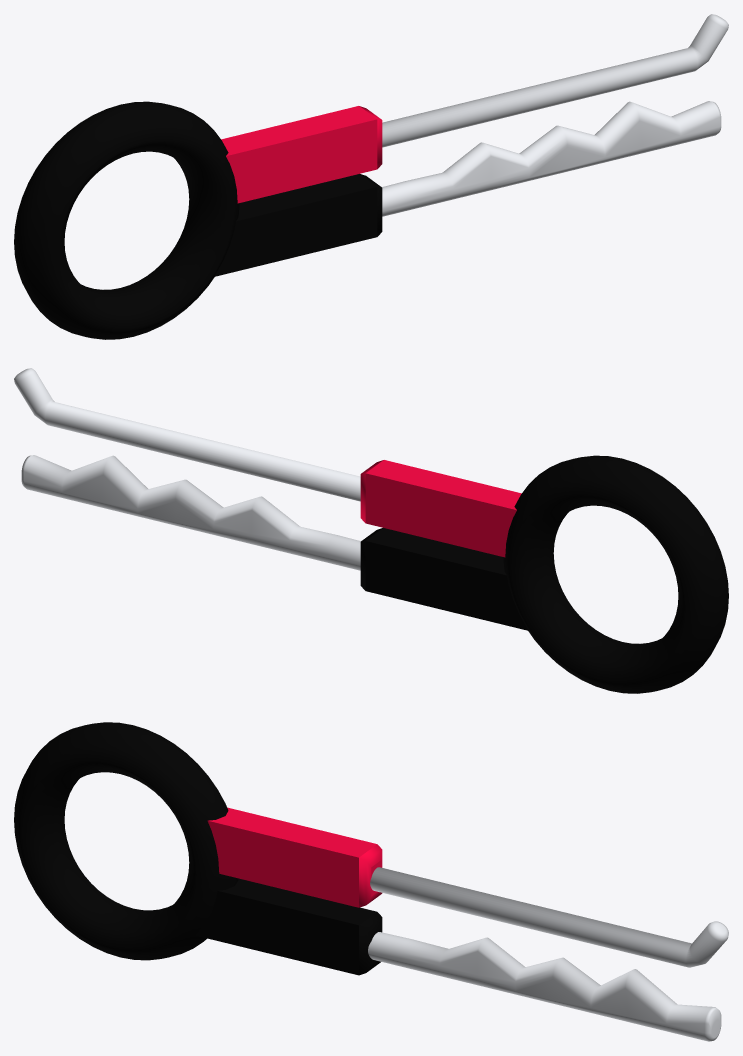
The model's file is item-hal-lockpick.glb.
3 renders of one model, top to bottom at view 1: azimuth 30°, elevation 25°; view 2: azimuth 150°, elevation 25°; view 3: azimuth 330°, elevation 25°, orthographic.
Bounding box in the file's own units: 0.1488 × 0.0459 × 0.013.
